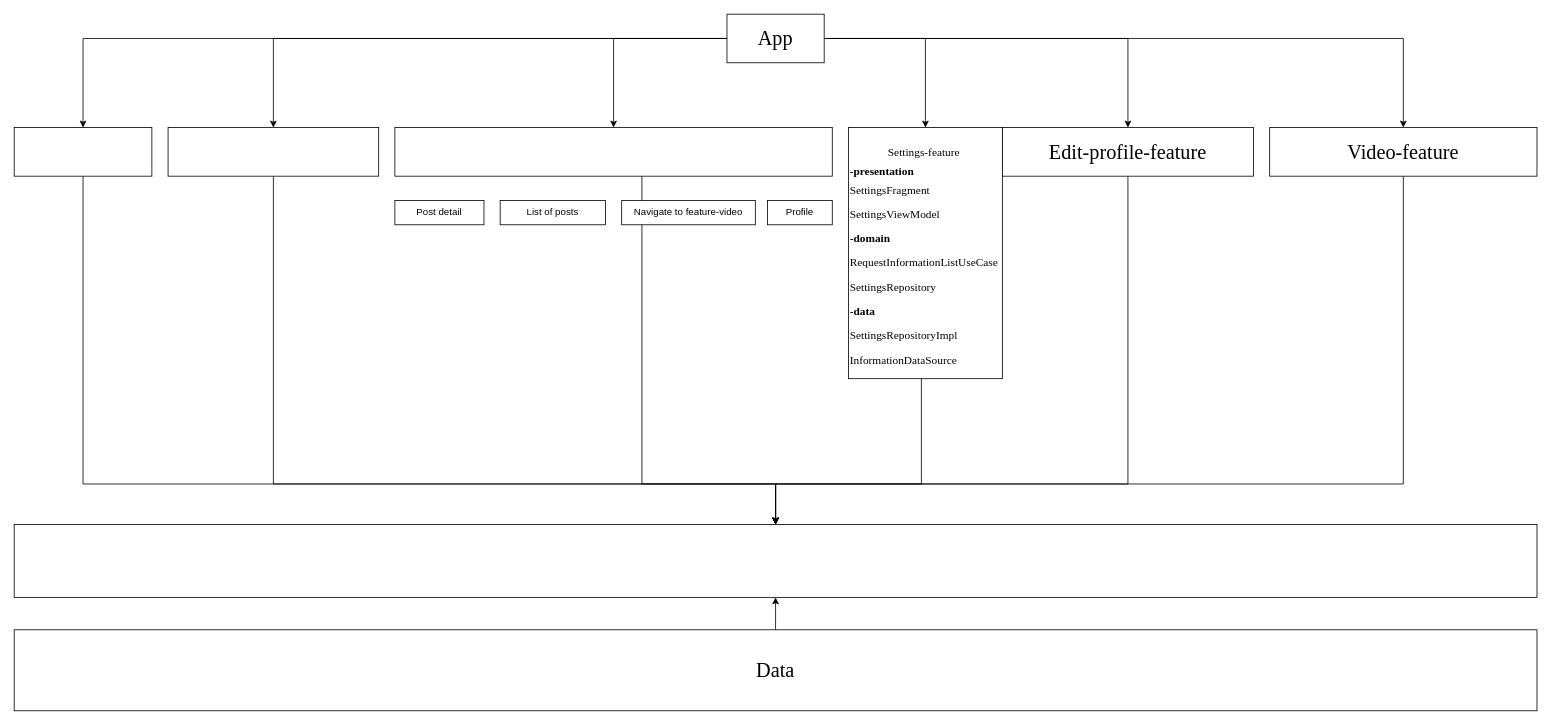
This 1551x725 diagram has some shape labels left out. Here are the shapes that lost their labels. From the top down, the box of each, then its label:
(13, 127, 152, 176): Splash-feature
(167, 127, 379, 176): Authorization-feature
(394, 127, 832, 176): Bottom-navigation-feature
(13, 524, 1537, 597): Domain
